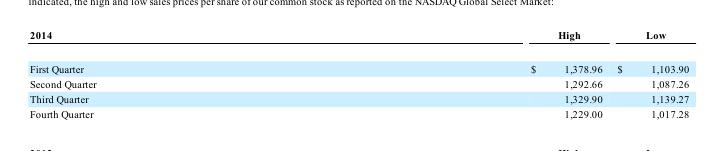table: (29, 28, 688, 119)
table column: (312, 28, 609, 119), (29, 28, 312, 119), (609, 28, 688, 119)
table column header: (29, 28, 688, 51)
table row: (29, 51, 688, 75), (29, 28, 688, 51), (29, 90, 688, 106), (29, 75, 688, 90), (29, 106, 688, 119)
